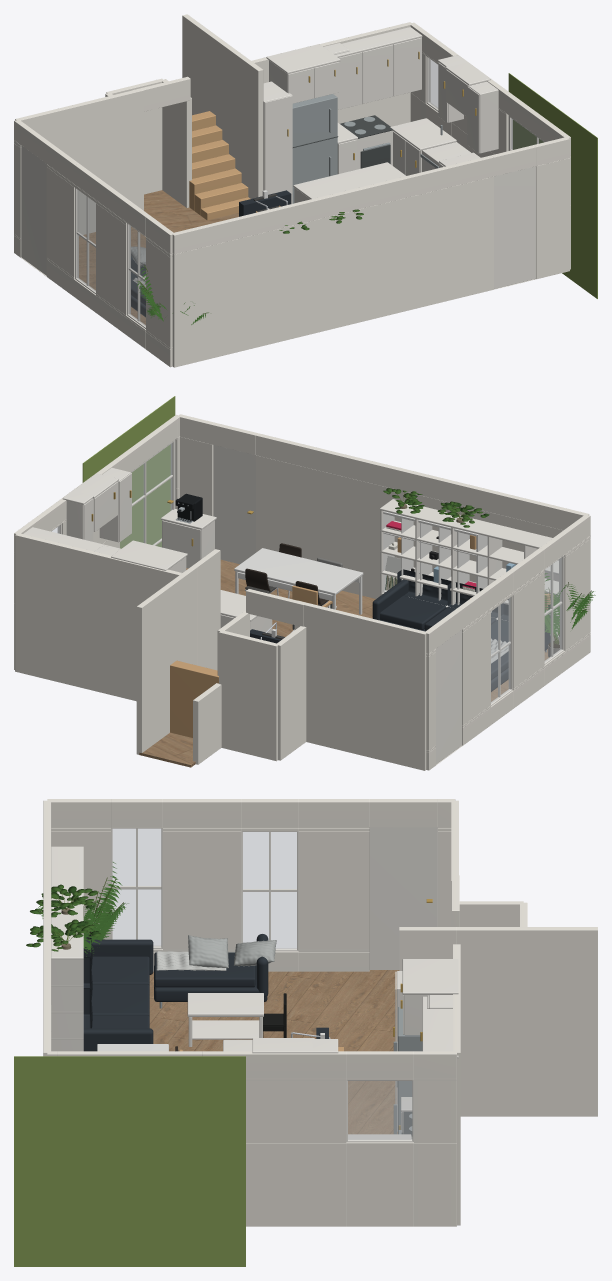
The picture shows the model from 3 angles, top to bottom: view 1: azimuth 30°, elevation 25°; view 2: azimuth 150°, elevation 25°; view 3: azimuth 270°, elevation 25°; orthographic projection. The views are drawn at different scales.
Parts seen in each view (by area): view 1: wall_8_segment.006, wall_11_segment, wall_8_segment.007, inferred_outdoor_brightness, wall_3_segment, door_panel.002, wall_8_segment.001, home-downstairs__refrigerator_24__body, wall_2_segment, door_panel, wall_0_segment.015, wall_5_segment (+52 smaller); view 2: wall_1_segment, wall_11_segment, wall_8_segment.006, wall_3_segment, wall_8_segment.007, wall_4_segment, inferred_outdoor_brightness, door_panel.002, wall_9_segment, wall_0_segment.015, measured_floor_polygon, observed_glazed_patio_panel (+45 smaller); view 3: inferred_outdoor_brightness, wall_3_segment, measured_floor_polygon, wall_0_segment.015, wall_0_segment.027, wall_7_segment.007, door_panel, wall_7_segment.008, wall_7_segment.004, glass.001, glass, glass.002 (+39 smaller).
Boxes of the visible parts, left/top/right/bottom form: wall_8_segment.006: left=172, top=176, right=493, bottom=367; wall_11_segment: left=15, top=88, right=143, bottom=234; wall_8_segment.007: left=172, top=155, right=493, bottom=254; inferred_outdoor_brightness: left=508, top=73, right=597, bottom=298; wall_3_segment: left=182, top=14, right=240, bottom=168; door_panel.002: left=494, top=166, right=535, bottom=288; wall_8_segment.001: left=536, top=158, right=569, bottom=278; home-downstairs__refrigerator_24__body: left=292, top=94, right=337, bottom=203; wall_2_segment: left=236, top=54, right=263, bottom=198; door_panel: left=21, top=145, right=46, bottom=275; wall_0_segment.015: left=96, top=203, right=130, bottom=315; wall_5_segment: left=161, top=79, right=191, bottom=207; wall_1_segment: left=15, top=533, right=181, bottom=701; wall_11_segment: left=294, top=600, right=426, bottom=770; wall_8_segment.006: left=256, top=455, right=562, bottom=640; wall_3_segment: left=136, top=565, right=197, bottom=754; wall_8_segment.007: left=256, top=433, right=589, bottom=530; wall_4_segment: left=219, top=630, right=278, bottom=761; inferred_outdoor_brightness: left=82, top=396, right=175, bottom=548; door_panel.002: left=213, top=445, right=255, bottom=564; wall_9_segment: left=276, top=626, right=306, bottom=760; wall_0_segment.015: left=508, top=572, right=544, bottom=688; measured_floor_polygon: left=139, top=559, right=548, bottom=767; observed_glazed_patio_panel: left=120, top=443, right=172, bottom=548; inferred_outdoor_brightness: left=14, top=1056, right=245, bottom=1266; wall_3_segment: left=457, top=927, right=597, bottom=1116; measured_floor_polygon: left=149, top=970, right=399, bottom=1134; wall_0_segment.015: left=163, top=831, right=241, bottom=949; wall_0_segment.027: left=298, top=831, right=369, bottom=949; wall_7_segment.007: left=246, top=1143, right=346, bottom=1226; door_panel: left=369, top=827, right=437, bottom=969; wall_7_segment.008: left=246, top=1080, right=346, bottom=1142; wall_7_segment.004: left=346, top=1142, right=413, bottom=1226; glass.001: left=243, top=832, right=296, bottom=948; glass: left=113, top=829, right=160, bottom=946; glass.002: left=348, top=1081, right=411, bottom=1139.
Bounding box in the file's own units: 8.43 × 3.11 × 7.55.
Materials: 43 (1 with a texture image).
